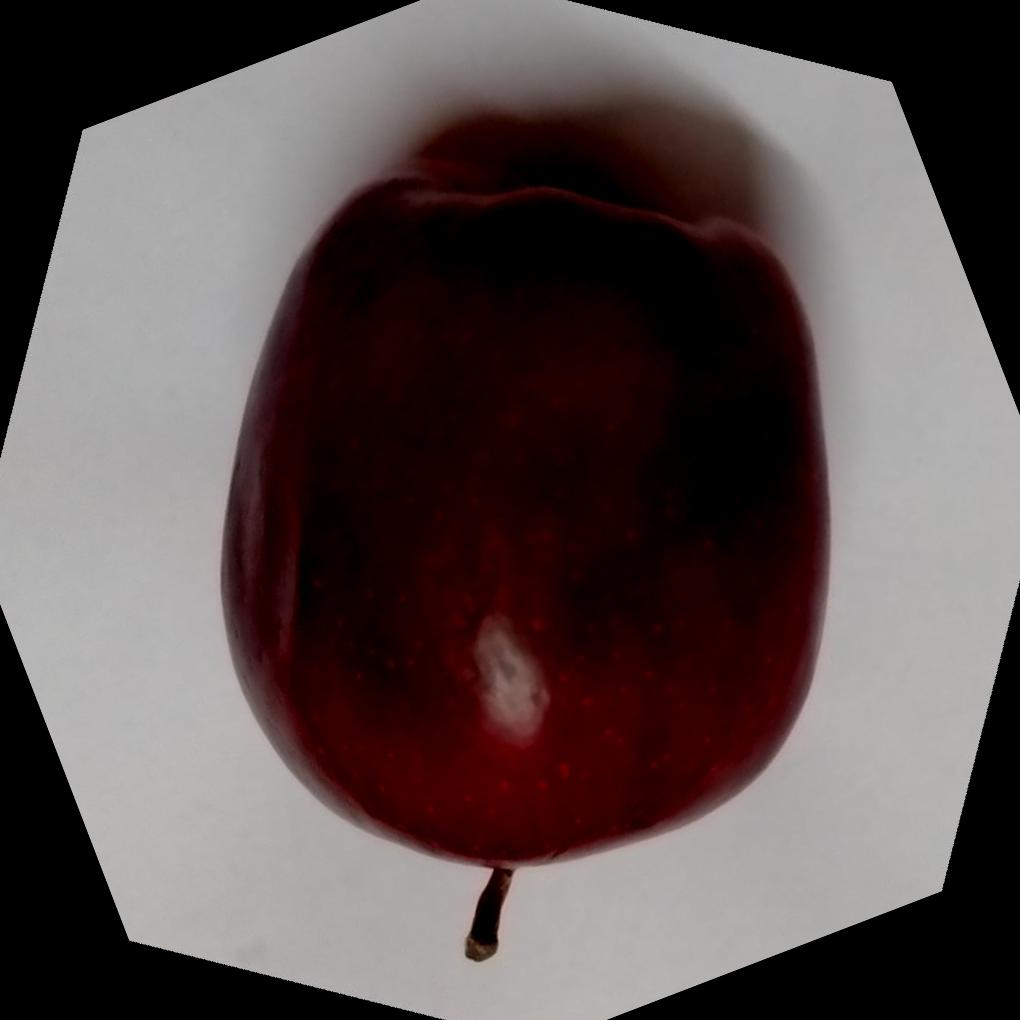FreshOrange: (219, 153, 837, 876)
